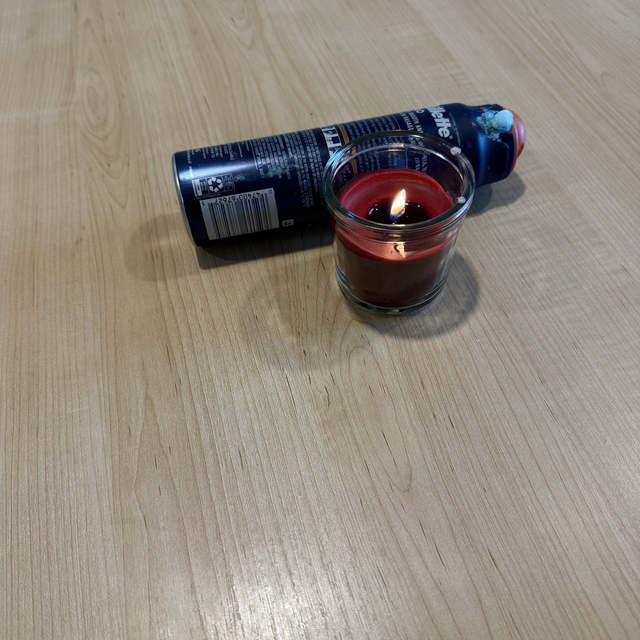Aerosol: (173, 100, 527, 261)
Candle: (319, 130, 469, 314)
